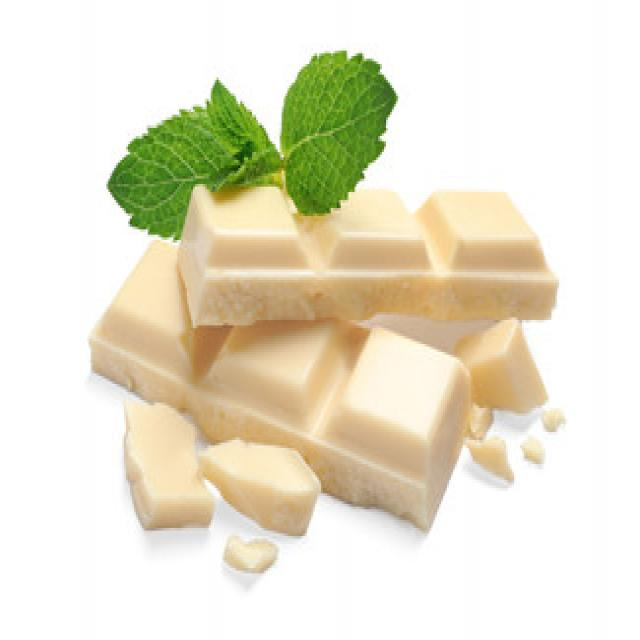chocolate: (87, 239, 469, 541), (173, 179, 557, 323)
